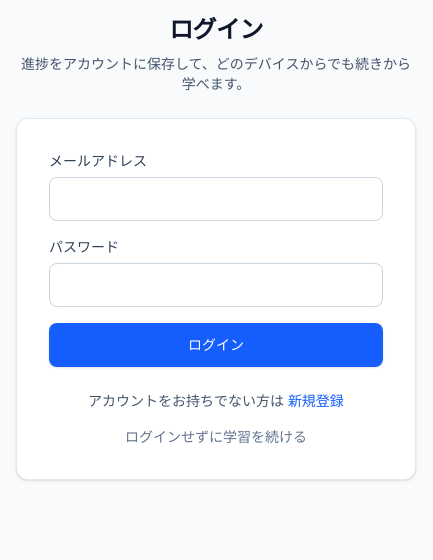
Login page › shows an error message when login fails
This screenshot has width=433, height=560.
Type "test@example.com" into the field labelled "メールアドレス".
click(216, 199); type("test@example.com")  # box [49,177,383,221]
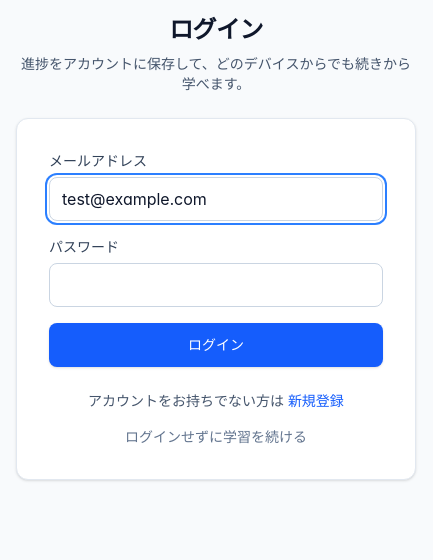
Type "wrong" into the password field labelled "パスワード".
click(216, 285); type("wrong")  # box [49,263,383,307]
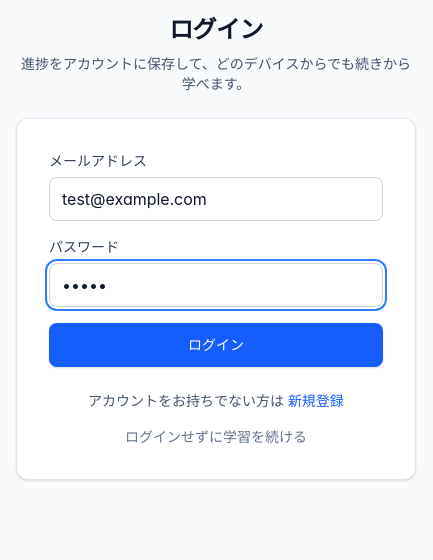
Click the button "ログイン".
click(216, 345)  # box [49,323,383,367]
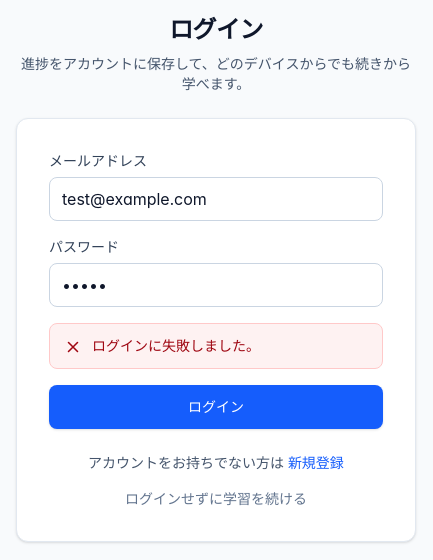
Check: the text "ログインに失敗しました。" is shown, box [92,337,260,354]
